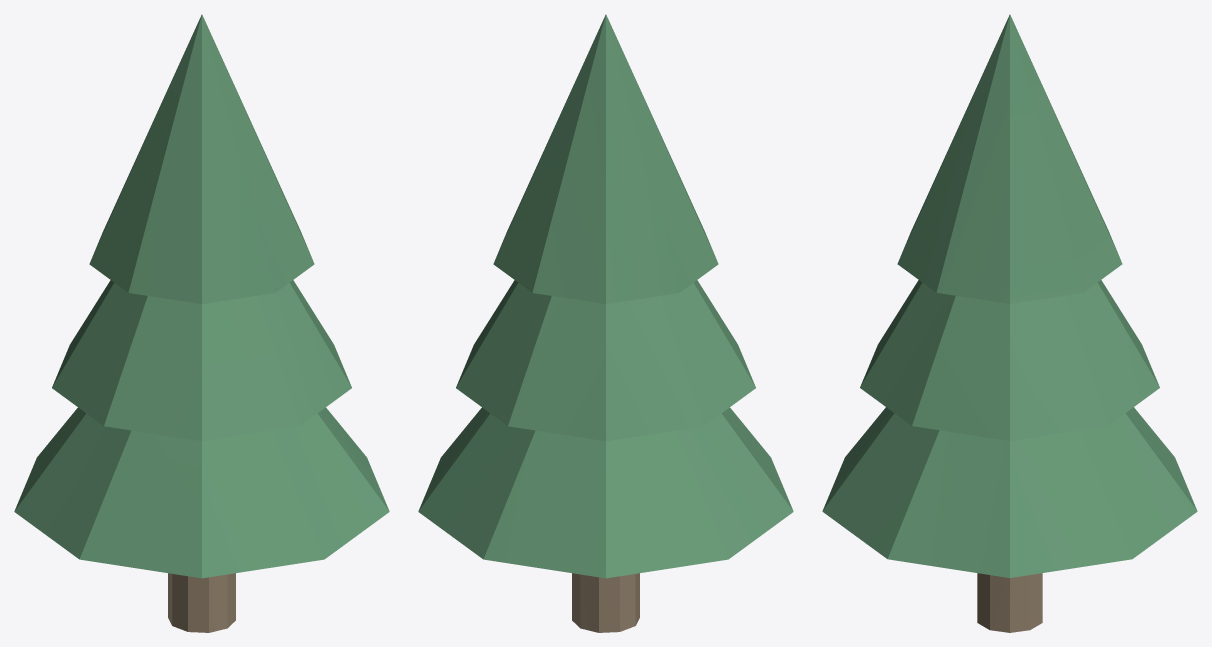
File: pine-06.glb
3 views of the same model, side by side, from view 1: azimuth 30°, elevation 25°; view 2: azimuth 150°, elevation 25°; view 3: azimuth 270°, elevation 25° (orthographic).
Parts seen in each view (by area): view 1: world; view 2: world; view 3: world.
Part boxes in pixels (x1,y1,x2,y2): world: (14, 14, 389, 632); world: (418, 14, 793, 632); world: (822, 14, 1197, 632).
Bounding box in the file's own units: 0.9698 × 1.75 × 0.9848.
